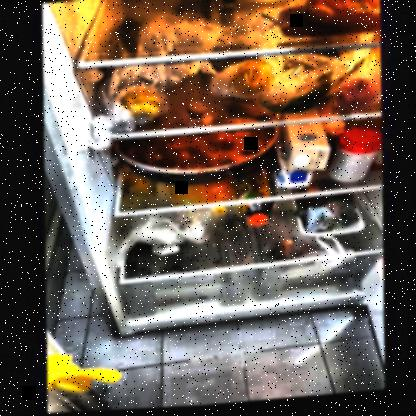broccoli: (299, 197, 360, 241)
carrot: (270, 0, 381, 41)
green_chillies: (265, 84, 339, 117)
lemon: (115, 85, 165, 122), (233, 65, 273, 96)
milk: (275, 128, 332, 193), (220, 0, 375, 11)
tomato: (336, 77, 381, 112)
